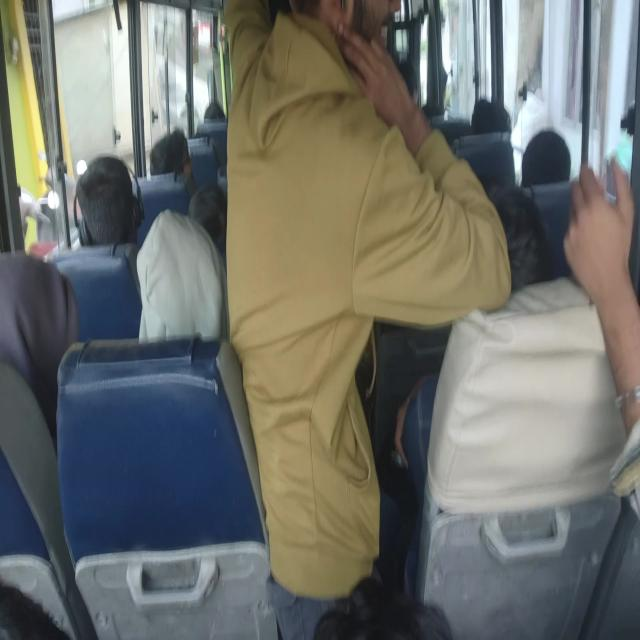person: (225, 4, 430, 424), (472, 184, 551, 320), (142, 227, 220, 356), (0, 270, 70, 396), (72, 171, 152, 258), (523, 128, 569, 188), (188, 182, 228, 234), (473, 86, 511, 140), (154, 132, 192, 180), (202, 92, 226, 136)
